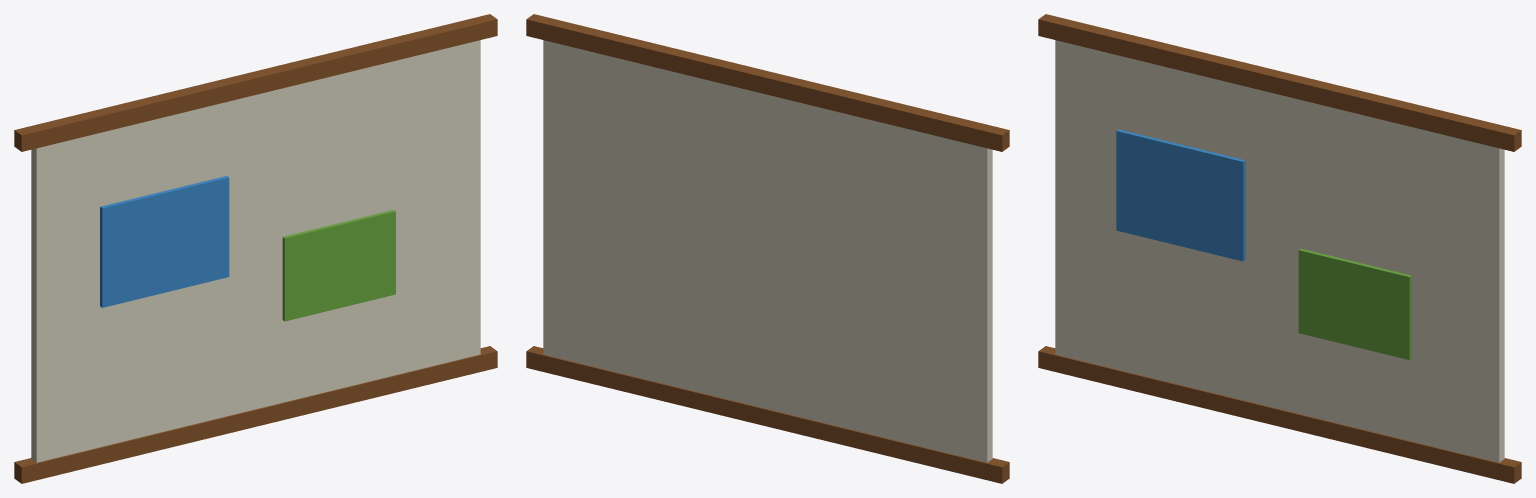
The model's file is map_wall.fbx.
3 views of the same model, side by side, from view 1: azimuth 30°, elevation 25°; view 2: azimuth 150°, elevation 25°; view 3: azimuth 330°, elevation 25° (orthographic).
Parts seen in each view (by area): view 1: map_wall; view 2: map_wall; view 3: map_wall.
Boxes of the visible parts, x1,y1,x2,y2 form: map_wall: (14,14,497,483); map_wall: (526,14,1009,483); map_wall: (1038,14,1521,483).
Size of the model in its own units: 1.5 by 1.05 by 0.0475.
